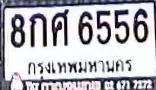5: (113, 9, 129, 43), (95, 9, 110, 44)
6: (77, 10, 92, 44), (132, 8, 147, 42)
8: (10, 13, 24, 47)
A01: (29, 12, 46, 46)
A38: (51, 8, 68, 46)
BKK: (22, 56, 134, 79)
